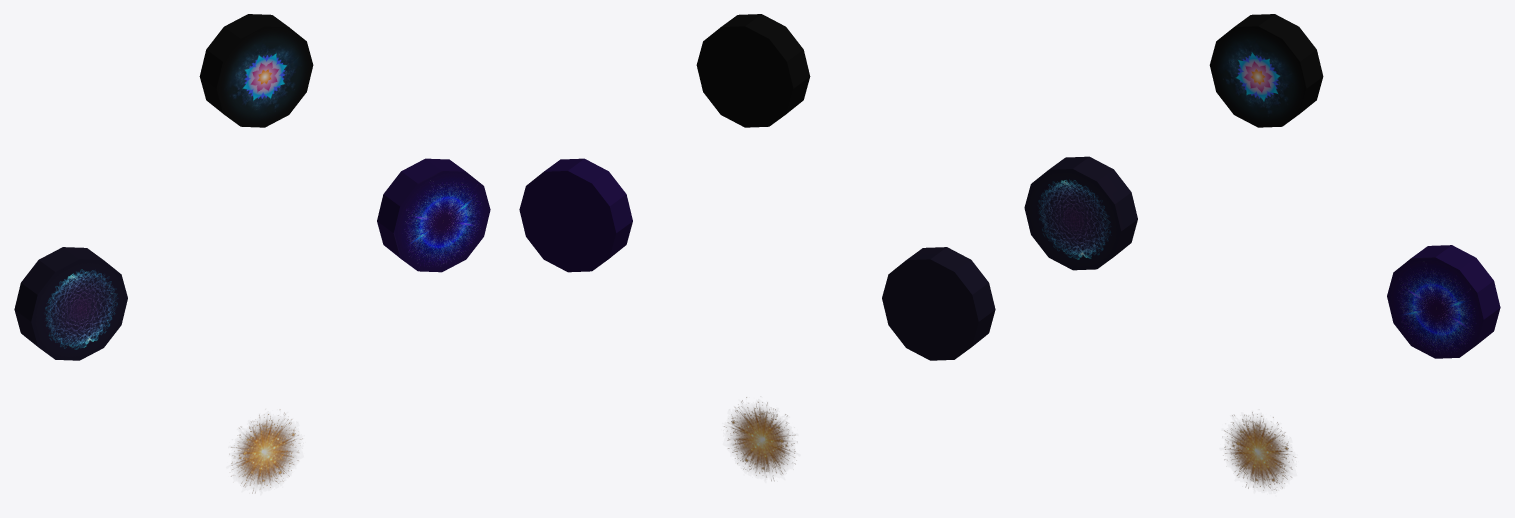
3 views of the same model, side by side, from view 1: azimuth 30°, elevation 25°; view 2: azimuth 150°, elevation 25°; view 3: azimuth 330°, elevation 25° (orthographic).
Visible parts, largest first — view 1: Cylinder.001, Cylinder.002, Cylinder, Cylinder.003; view 2: Cylinder.001, Cylinder.002, Cylinder, Cylinder.003; view 3: Cylinder.002, Cylinder, Cylinder.001, Cylinder.003.
Part boxes in pixels (box(x1,y1,x2,y2)): Cylinder.001: box(14, 247, 127, 360); Cylinder.002: box(199, 14, 313, 127); Cylinder: box(377, 158, 490, 272); Cylinder.003: box(229, 409, 302, 493); Cylinder.001: box(882, 247, 995, 360); Cylinder.002: box(696, 14, 810, 127); Cylinder: box(519, 158, 632, 272); Cylinder.003: box(724, 397, 795, 480); Cylinder.002: box(1209, 14, 1323, 127); Cylinder: box(1387, 245, 1500, 358); Cylinder.001: box(1024, 156, 1137, 270); Cylinder.003: box(1224, 412, 1295, 490).
Bounding box in the file's own units: 8.1 × 8.05 × 0.5123.
4 materials, 4 textured.
